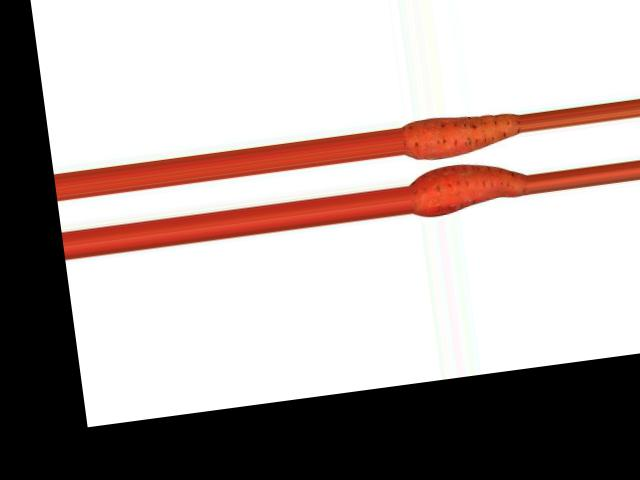sweet_potato: (400, 108, 520, 164)
